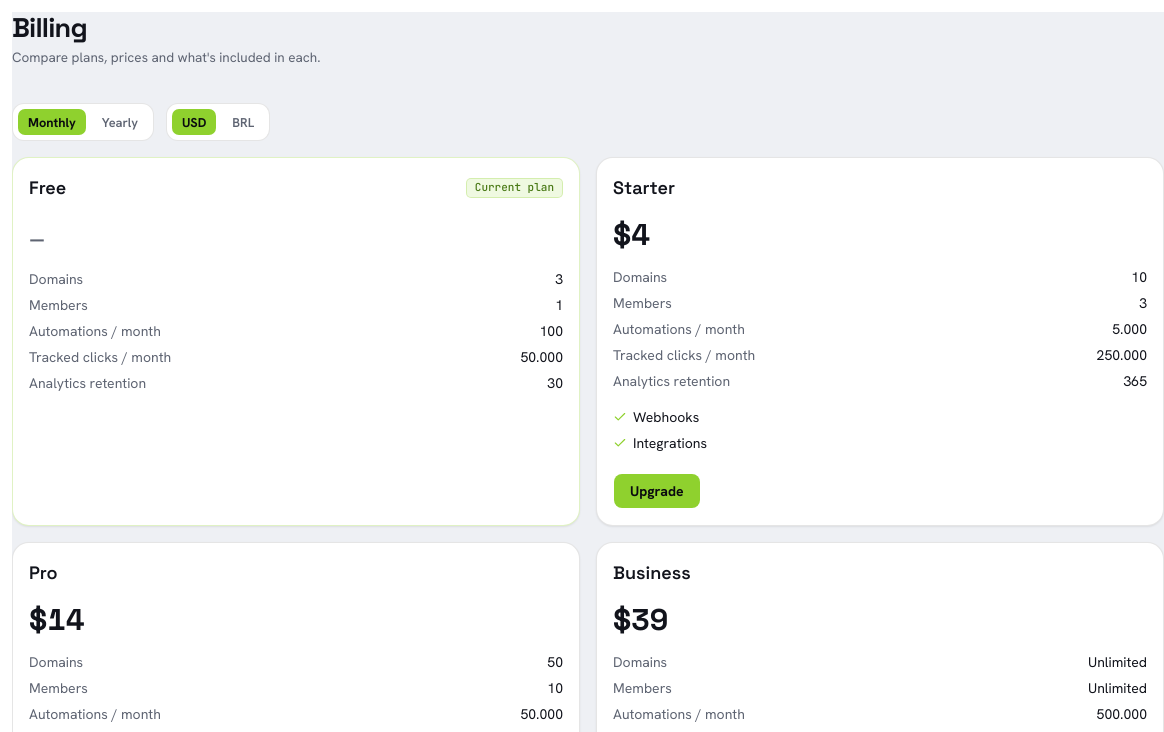
Test case: Billing › hides the price and the upgrade button for a cycle whose price is null, but keeps the other cycle sellable
Check: the heading "Pro" is shown, box [29, 559, 58, 587]
Check: the text "$14" is shown, box [29, 600, 84, 639]
Click the button "Yearly": click(120, 122) [91, 108, 149, 136]
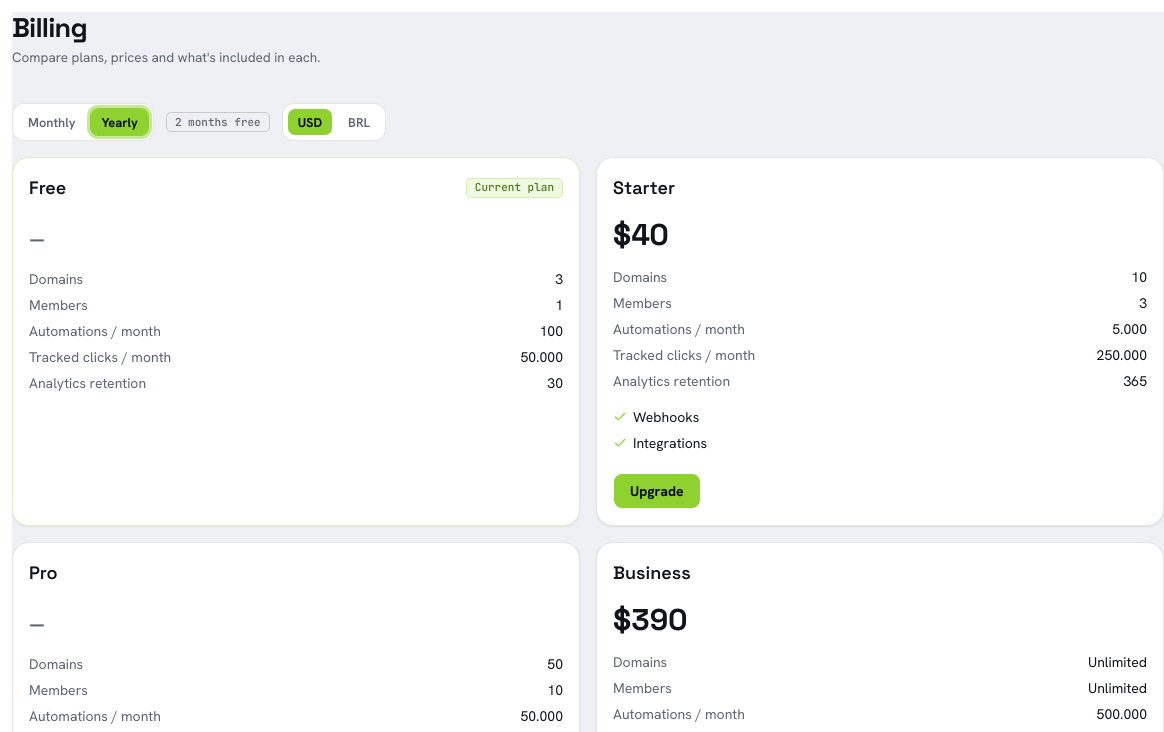
Check: the text "—" below "Pro" is shown, box [29, 612, 45, 635]
